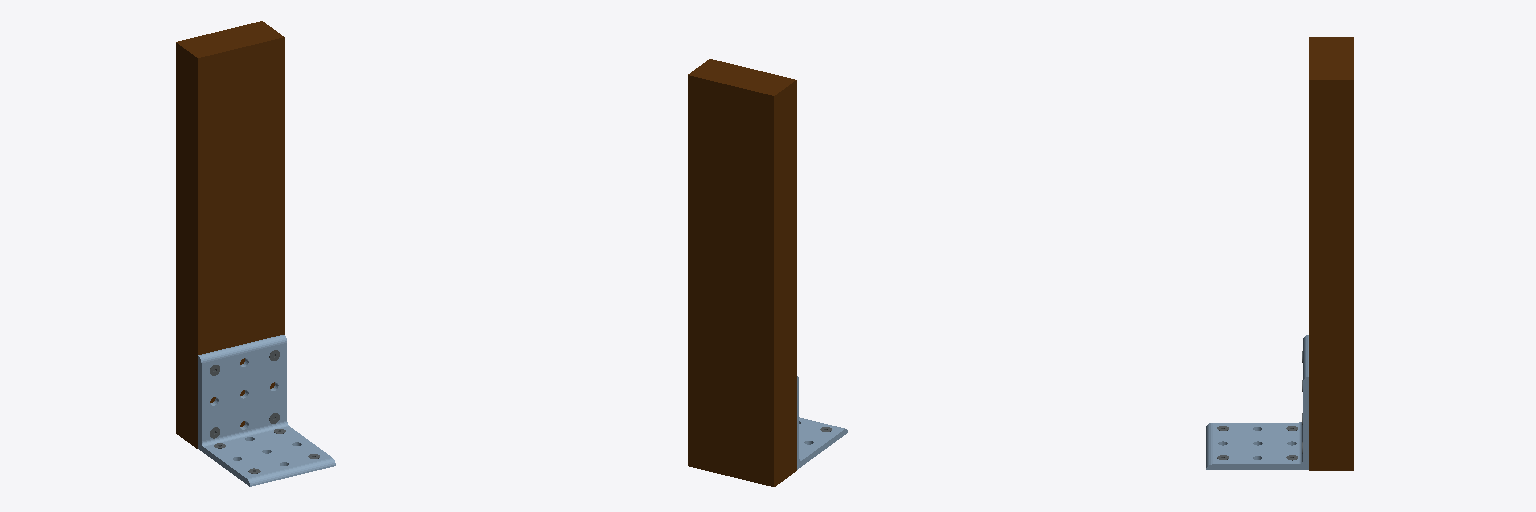
The model's file is tinker.obj.
3 renders of one model, left to right at view 1: azimuth 30°, elevation 25°; view 2: azimuth 150°, elevation 25°; view 3: azimuth 270°, elevation 25°, orthographic.
Visible parts, largest first — view 1: obj_0; view 2: obj_0; view 3: obj_0.
Part boxes in pixels (x1,y1,x2,y2): obj_0: (176, 21, 335, 486); obj_0: (688, 59, 847, 486); obj_0: (1206, 37, 1353, 470).
Bounding box in the file's own units: 44.93 × 195 × 66.34.